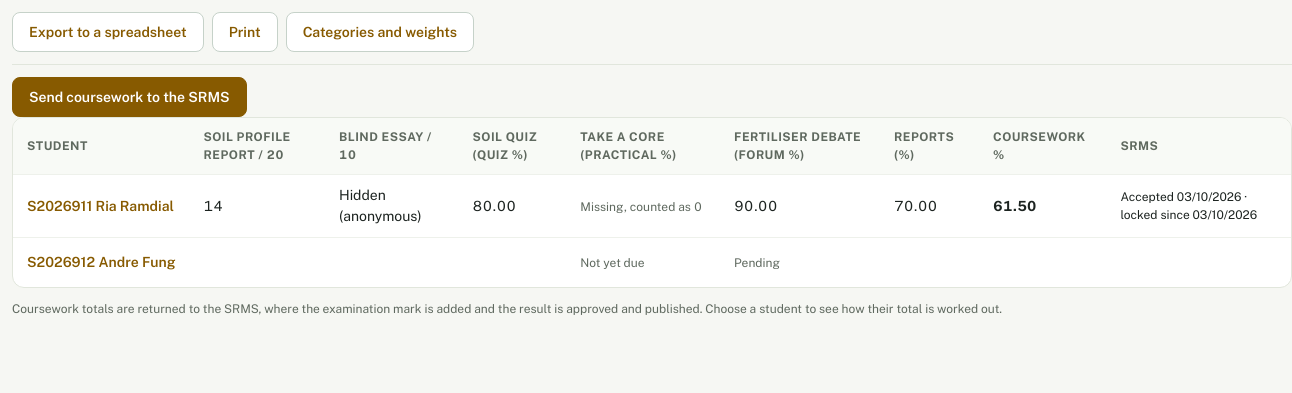
Scenario: the gradebook (items 2.28 to 2.31, 3.18) › says why the SRMS did not take the coursework, and offers no sending on a course it does not hold
Step 1. Click the button "Send coursework to the SRMS" → coordinates (129, 97), box [12,77,247,117]
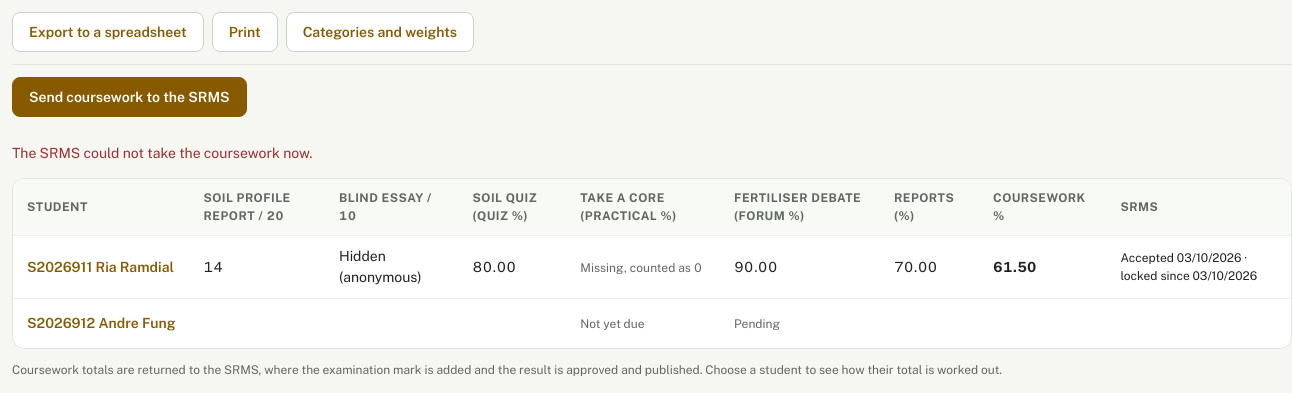
Check: the message reads "The SRMS could not take the coursework now.", box [12,145,312,161]
